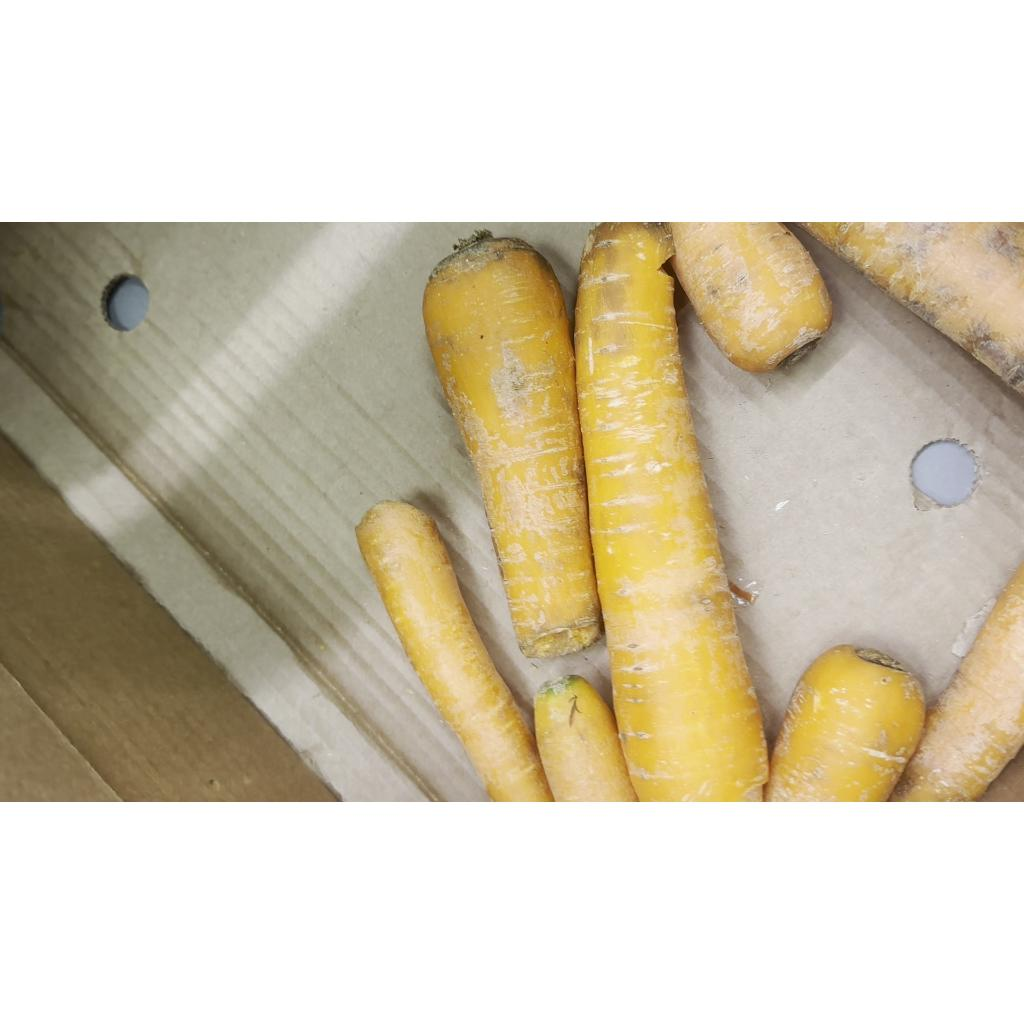carrot: (574, 222, 768, 800), (422, 230, 602, 658), (356, 502, 552, 802), (890, 562, 1024, 802), (766, 644, 926, 802), (670, 222, 832, 372), (534, 676, 638, 802)
